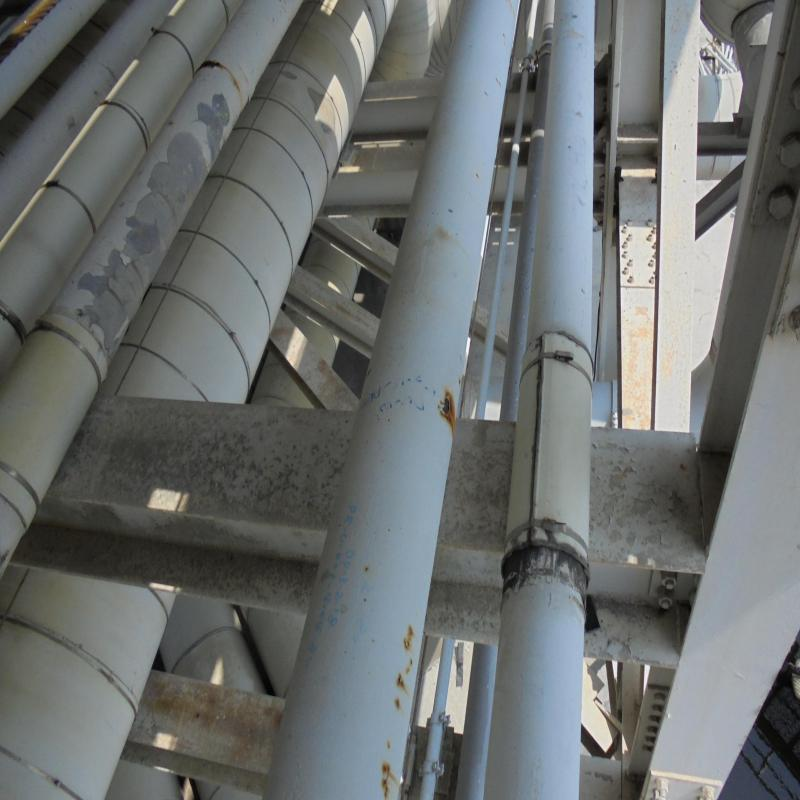corrosion: (434, 7, 519, 276)
